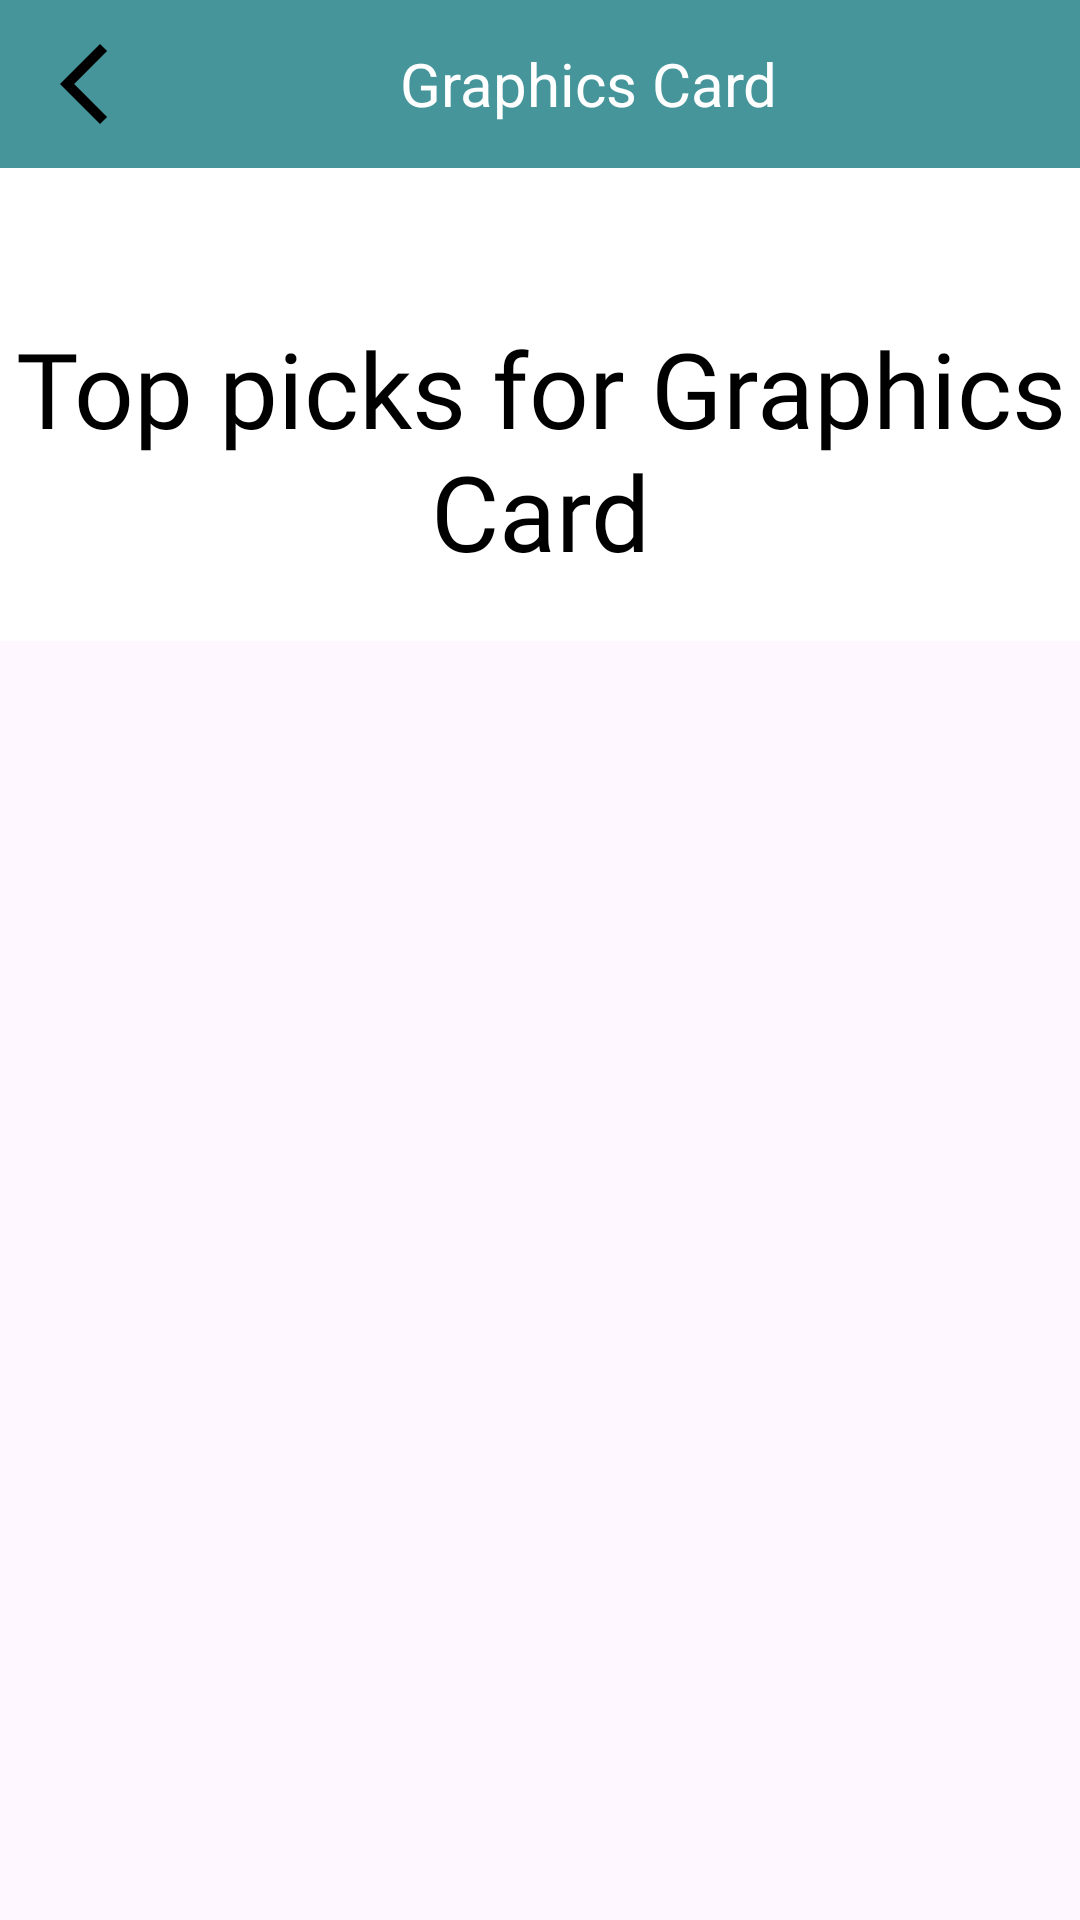

Where icons sit on this 1080px x 1920px app screen, as (x1, y1, x2, y2):
Back: (60, 44, 107, 124)
